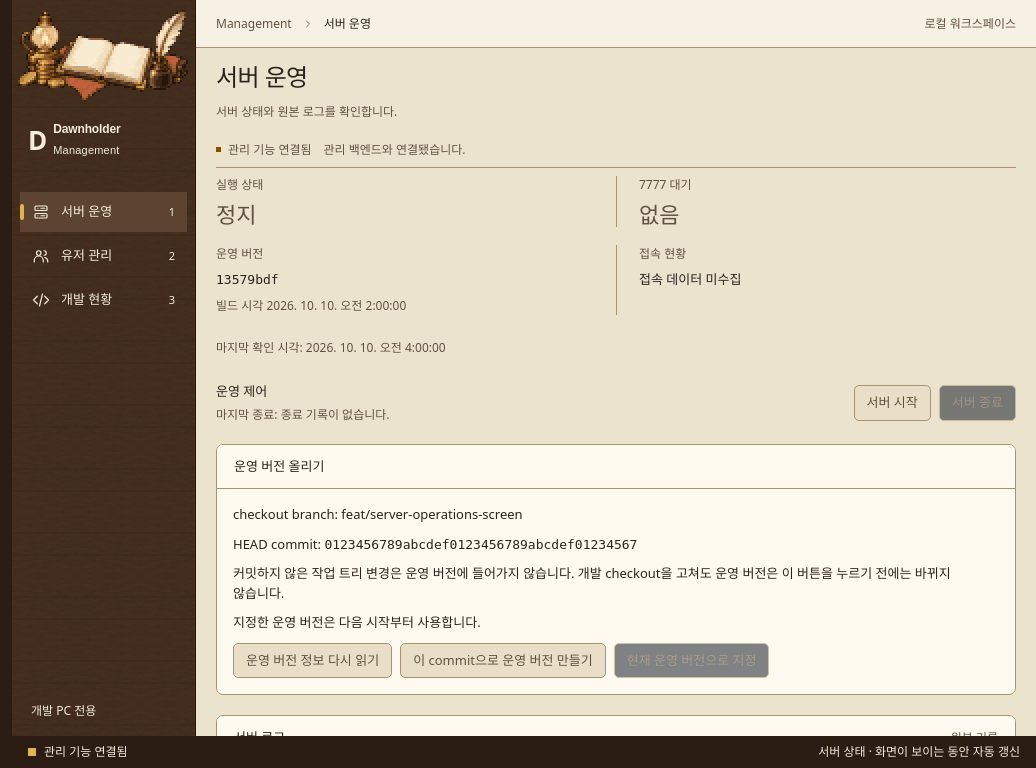
S8 failures › S8 shows the Korean message of a failed command
Click the button "서버 시작". click: [892, 403]
box: [854,385,931,421]
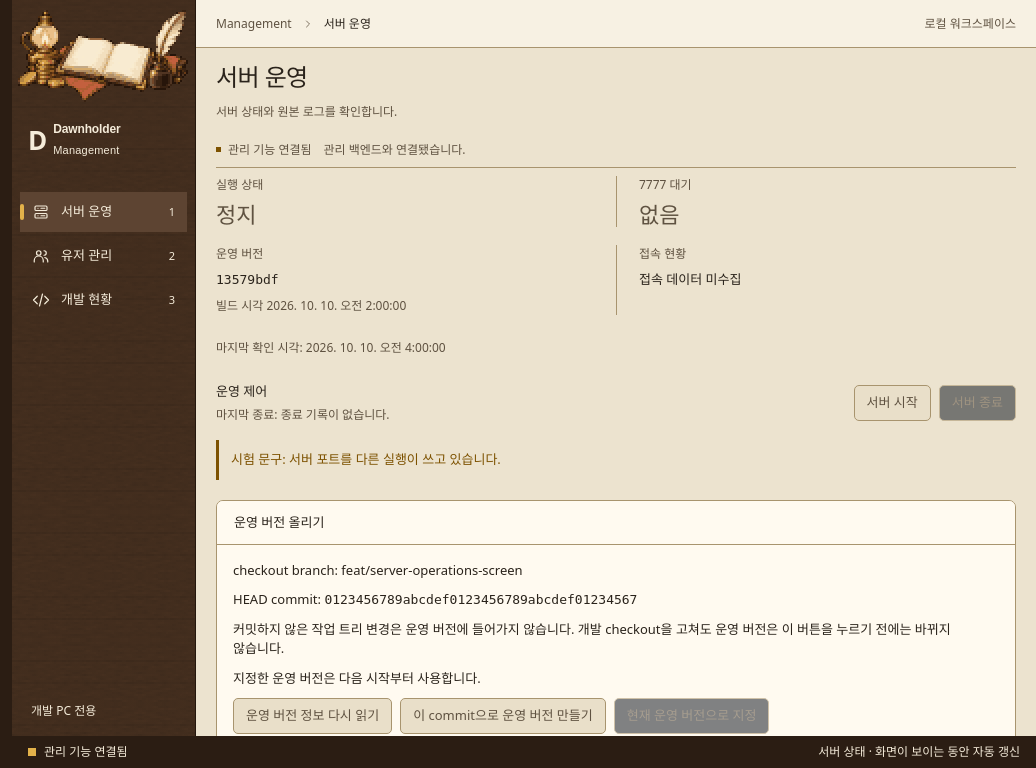
Now the text "시험 문구: 서버 포트를 다른 실행이 쓰고 있습니다." is shown, box [216,440,1016,480]
